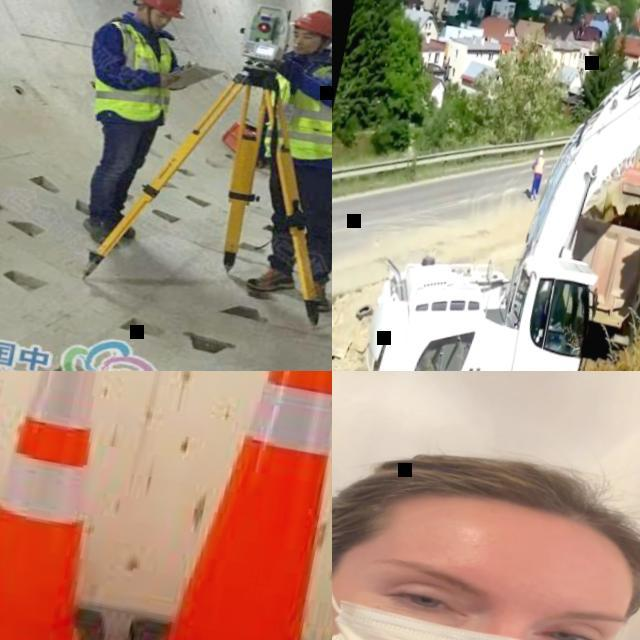Weapon: (249, 6, 343, 354), (85, 5, 192, 275), (524, 138, 558, 222)
objects: (121, 0, 219, 60), (288, 15, 344, 92)
